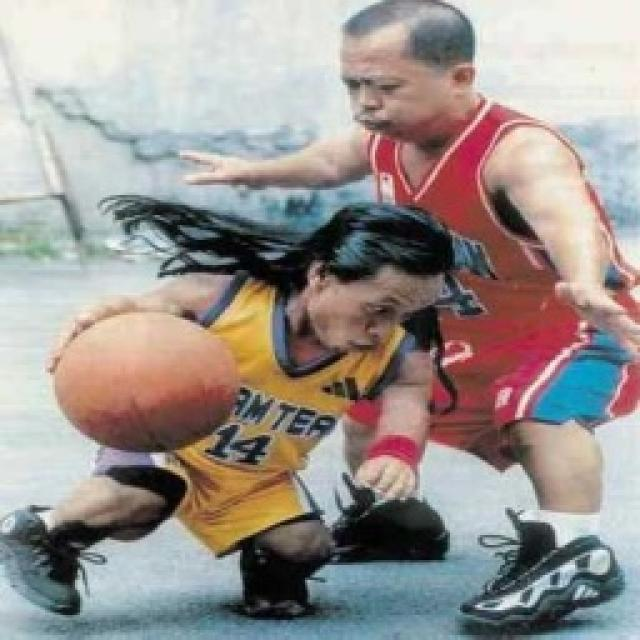rim: (48, 296, 248, 459)
